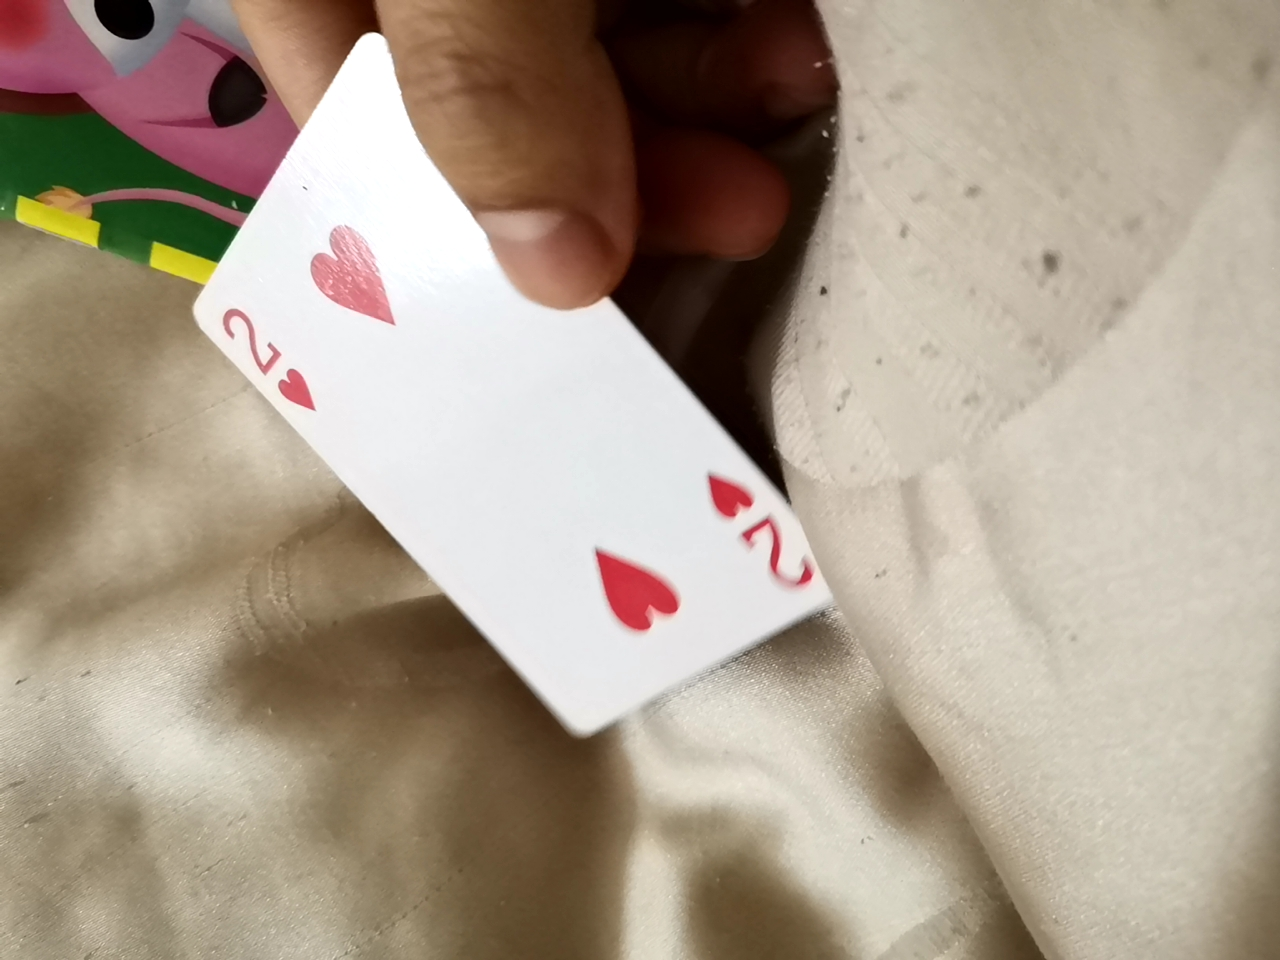hx 2: (167, 33, 841, 735)
